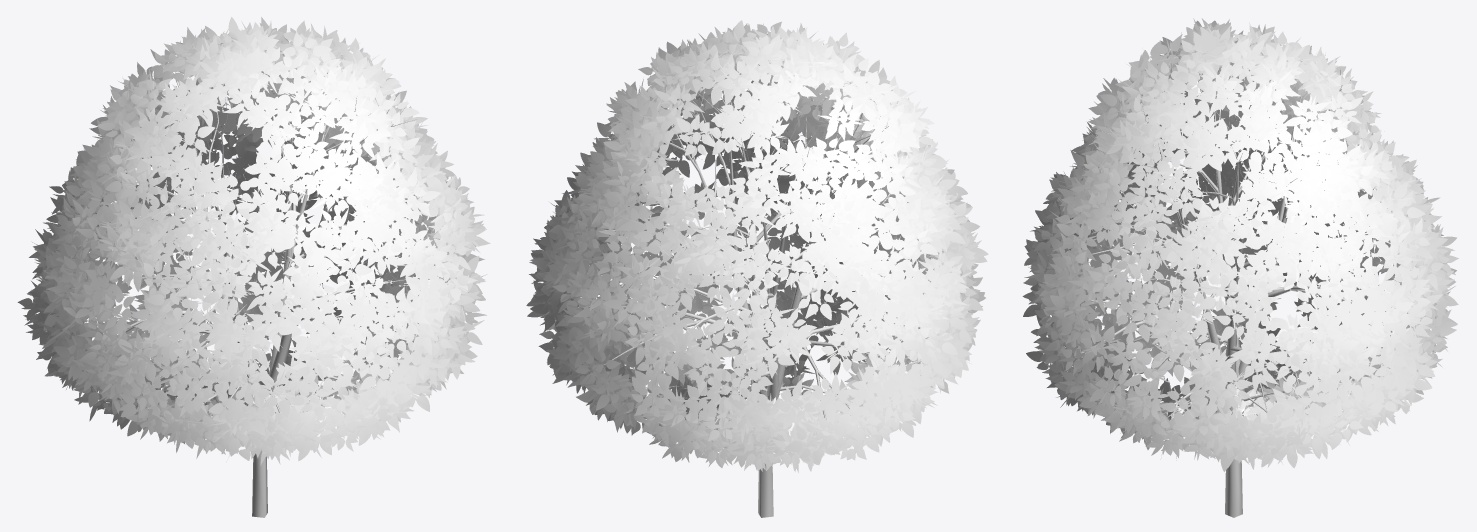
The model's file is Farmi_Puu_Testi7_LOD0.fbx.
The picture shows the model from 3 angles, left to right: view 1: azimuth 30°, elevation 25°; view 2: azimuth 150°, elevation 25°; view 3: azimuth 270°, elevation 25°; orthographic projection.
Visible parts, largest first — view 1: Lehdet_Farmi_Puu_Testi7_LOD0, Trunk_Farmi_Puu_Testi7_LOD0; view 2: Lehdet_Farmi_Puu_Testi7_LOD0, Trunk_Farmi_Puu_Testi7_LOD0; view 3: Lehdet_Farmi_Puu_Testi7_LOD0, Trunk_Farmi_Puu_Testi7_LOD0.
Boxes of the visible parts, bbox=[...] form: Lehdet_Farmi_Puu_Testi7_LOD0: bbox=[17, 17, 490, 465]; Trunk_Farmi_Puu_Testi7_LOD0: bbox=[86, 61, 435, 517]; Lehdet_Farmi_Puu_Testi7_LOD0: bbox=[526, 20, 988, 472]; Trunk_Farmi_Puu_Testi7_LOD0: bbox=[604, 54, 914, 517]; Lehdet_Farmi_Puu_Testi7_LOD0: bbox=[1022, 18, 1458, 471]; Trunk_Farmi_Puu_Testi7_LOD0: bbox=[1047, 50, 1412, 517].
Bounding box in the file's own units: 1064 × 1213 × 1018.
